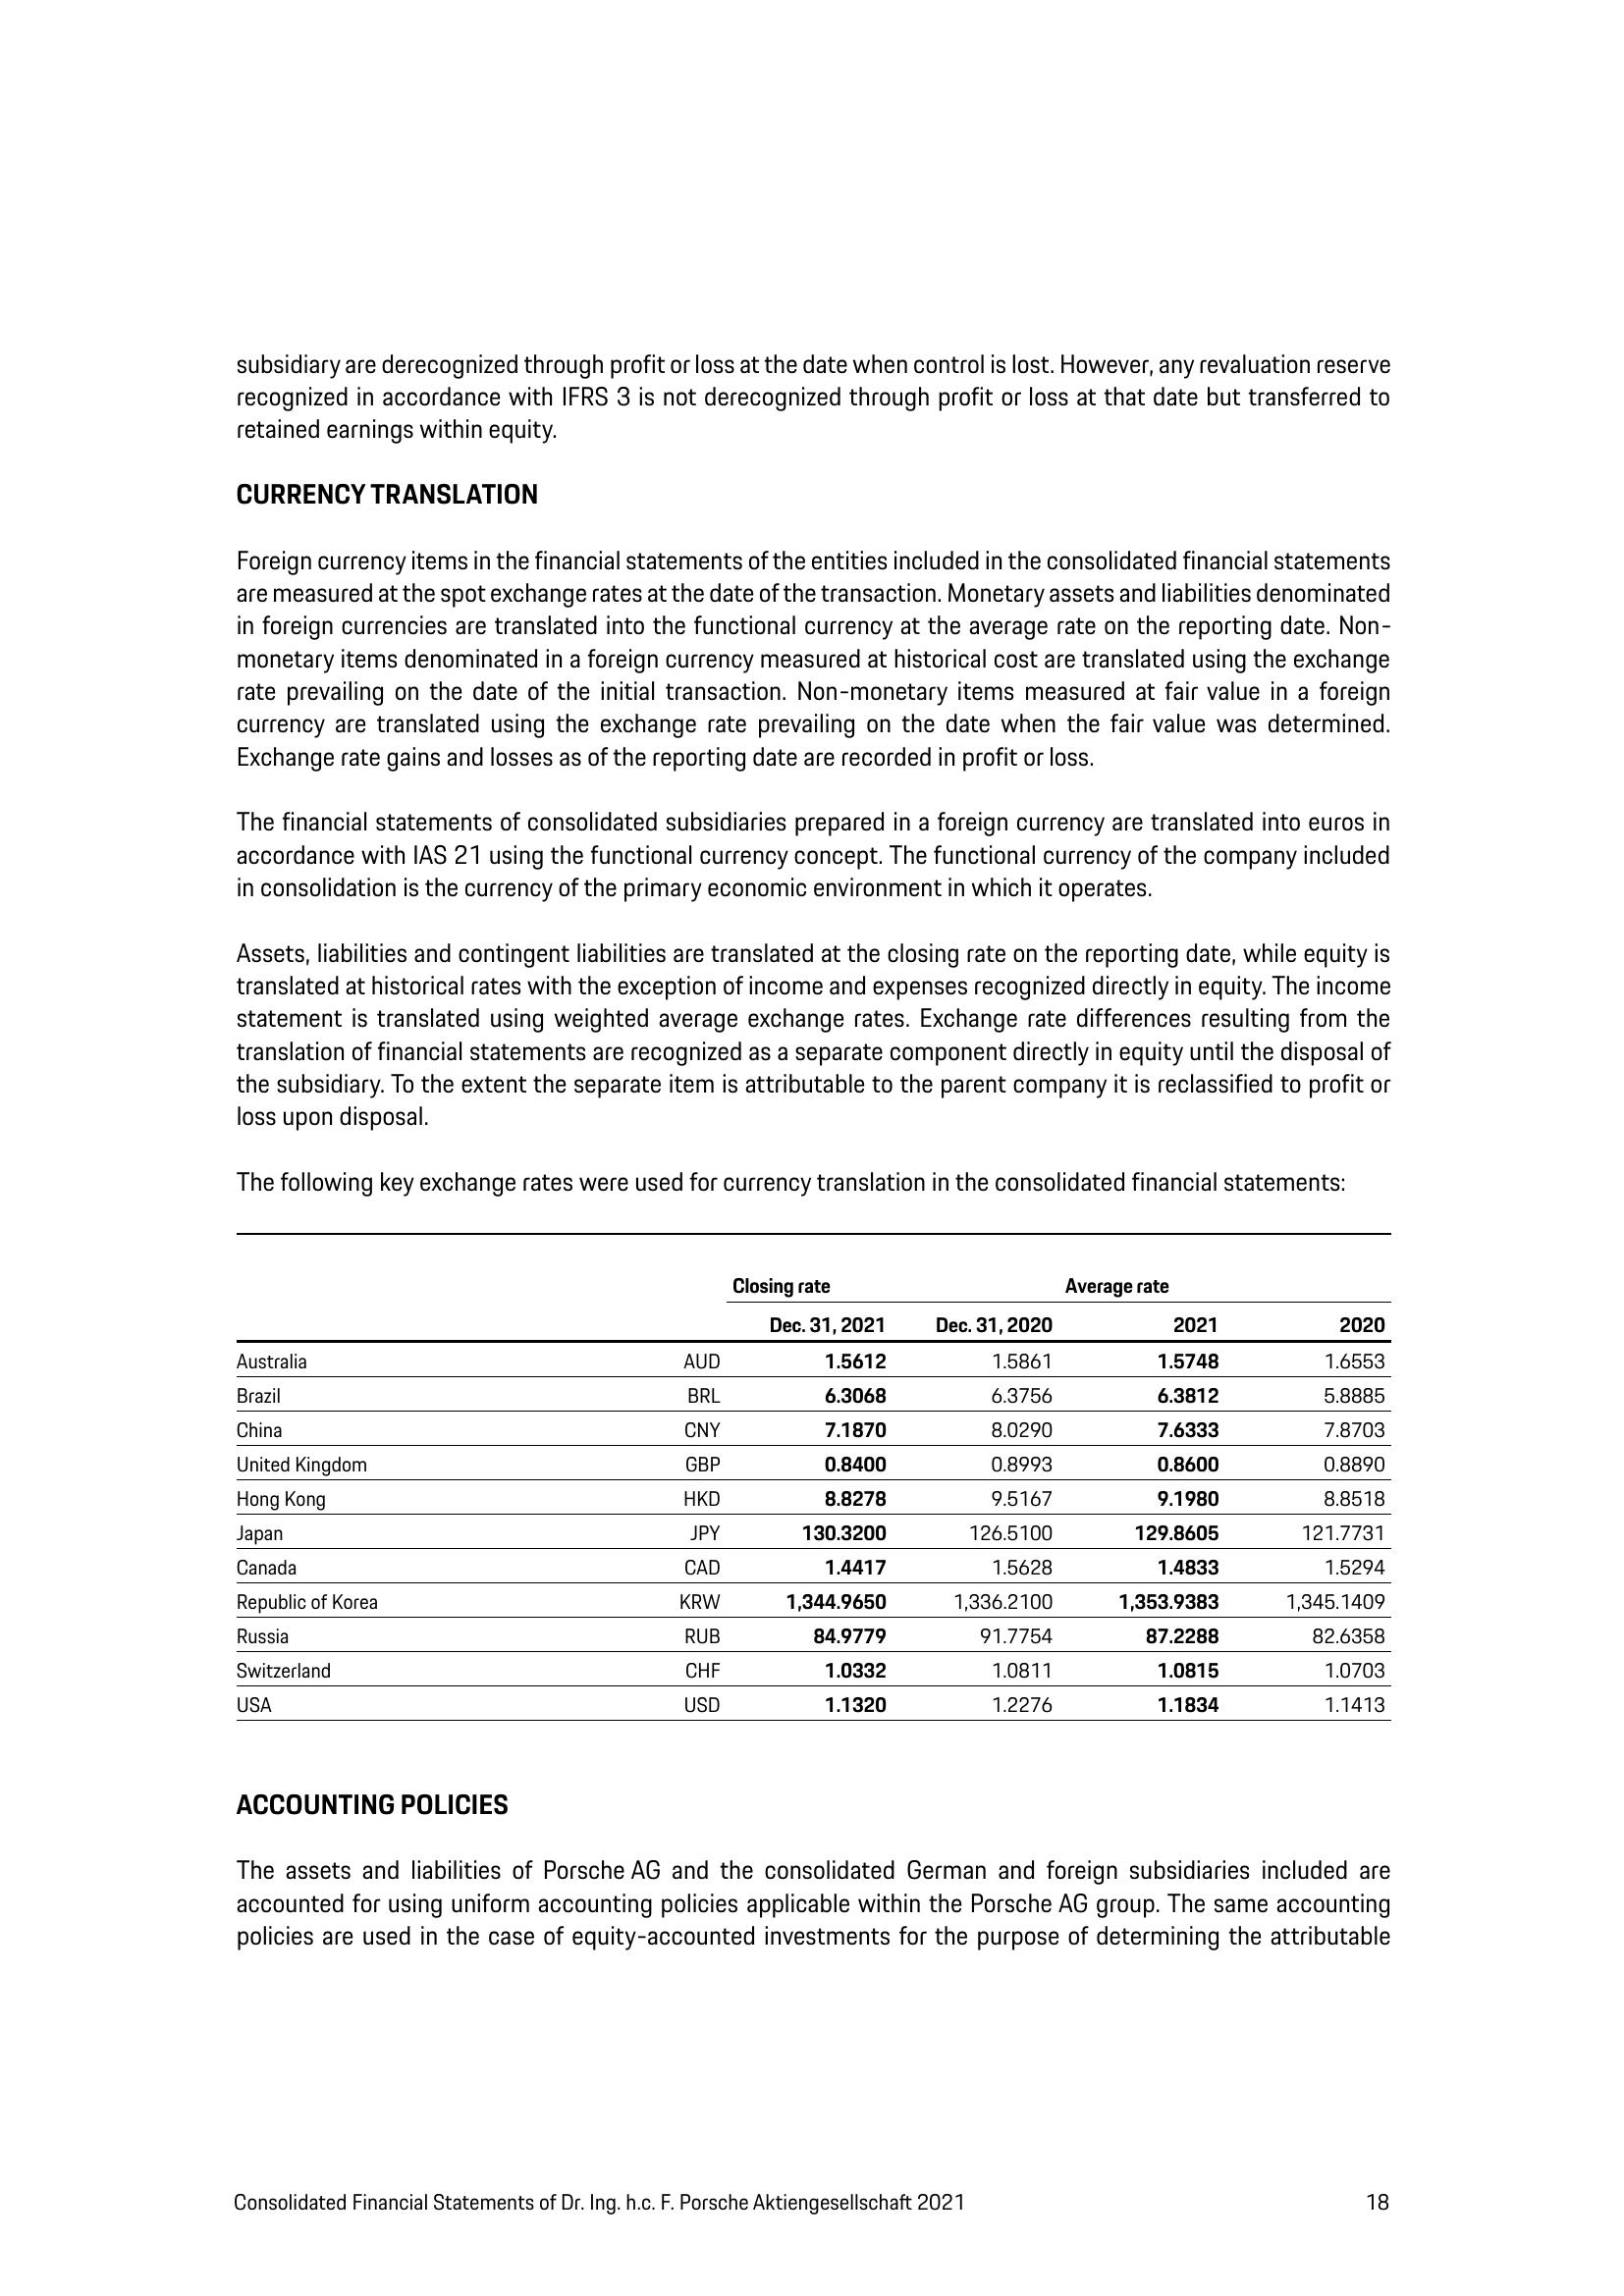Footer: (0, 2126, 1624, 2296)
Header: (0, 0, 1624, 188)
Table: (195, 1231, 1429, 1723)
